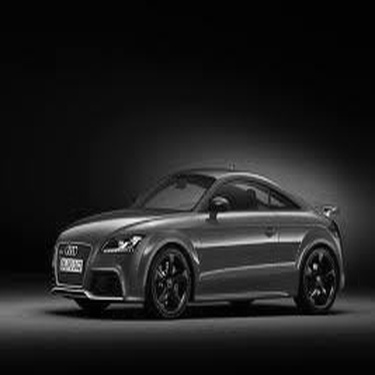car: (47, 156, 357, 322)
